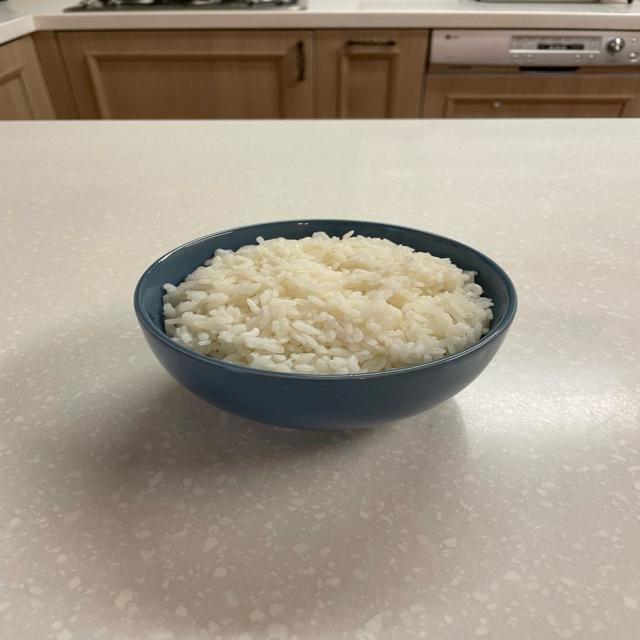Chicken -Chicken Inasal-: (212, 230, 471, 372)
